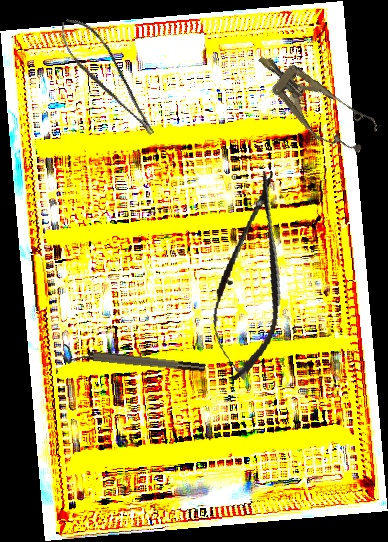Fixation Ring: (60, 343, 207, 381)
Micro Scissor: (201, 166, 302, 385), (53, 8, 159, 150)
Speculum: (243, 37, 383, 165)
